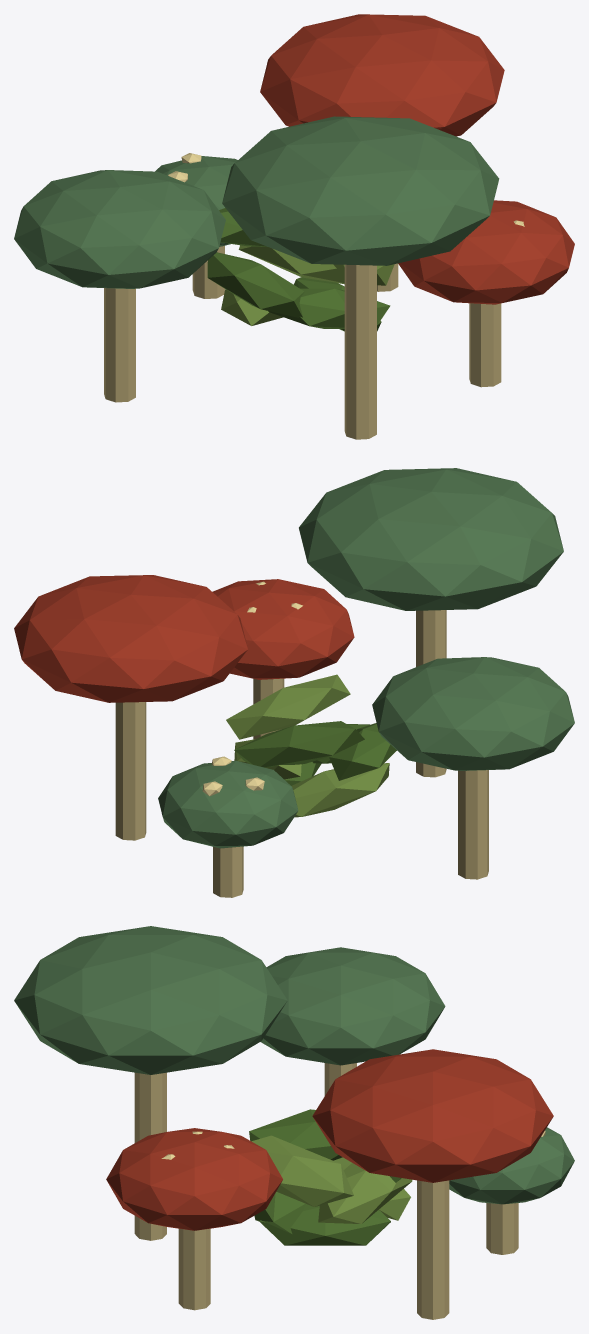
Rendered from forest_mushrooms.glb.
The picture shows the model from 3 angles, top to bottom: view 1: azimuth 30°, elevation 25°; view 2: azimuth 150°, elevation 25°; view 3: azimuth 270°, elevation 25°; orthographic projection. The views are drawn at different scales.
Visible parts, largest first — view 1: A family of woodland fungiMesh; view 2: A family of woodland fungiMesh; view 3: A family of woodland fungiMesh.
Part boxes in pixels (bbox=[...]): A family of woodland fungiMesh: bbox=[14, 14, 574, 439]; A family of woodland fungiMesh: bbox=[14, 468, 574, 897]; A family of woodland fungiMesh: bbox=[14, 926, 574, 1319].
Size of the model in its own units: 3.48 by 1.93 by 3.48.
